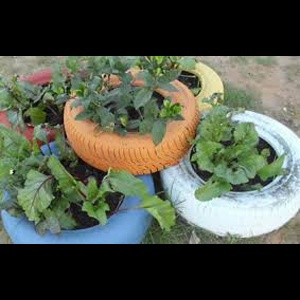tire: (160, 107, 300, 240), (1, 140, 156, 245), (62, 70, 199, 178), (1, 70, 104, 155), (121, 58, 225, 129)
